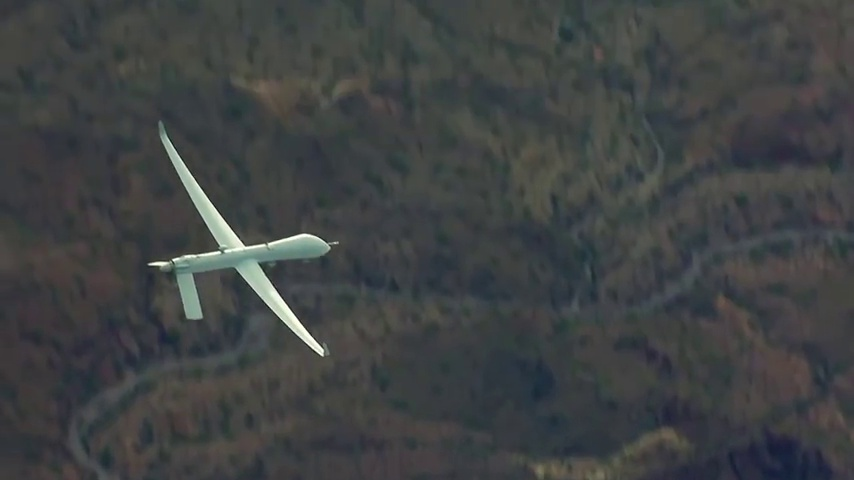military drone: (147, 119, 340, 357)
